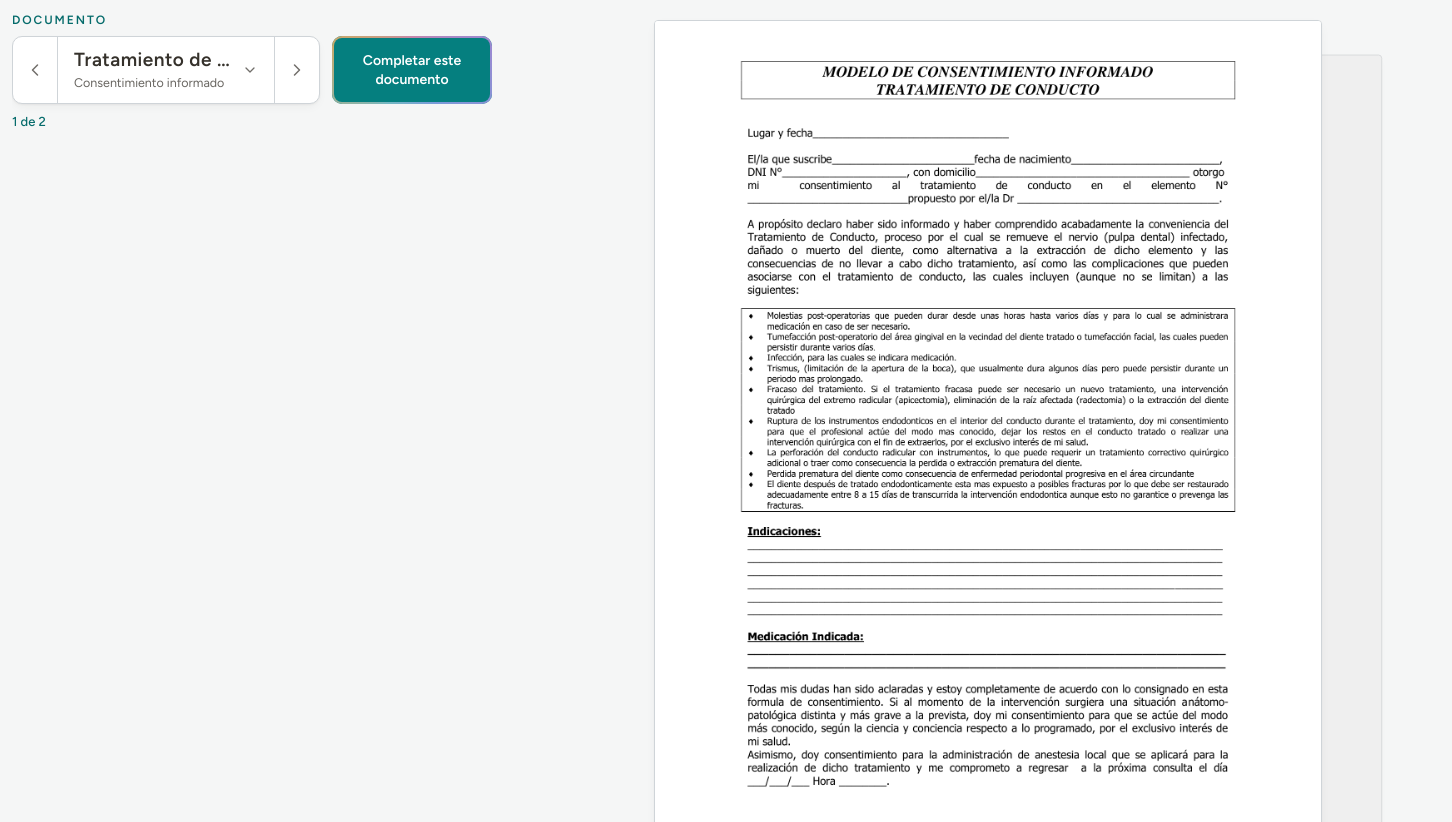
Test: ModuloDocumentos › las flechas recorren los documentos como una rueda, y la vista acompaña
The image size is (1452, 822).
expect the text "1 de 2" is shown: met, box [12, 114, 46, 129]
Click the button named "Documento siguiente": point(297, 70) [275, 37, 319, 103]
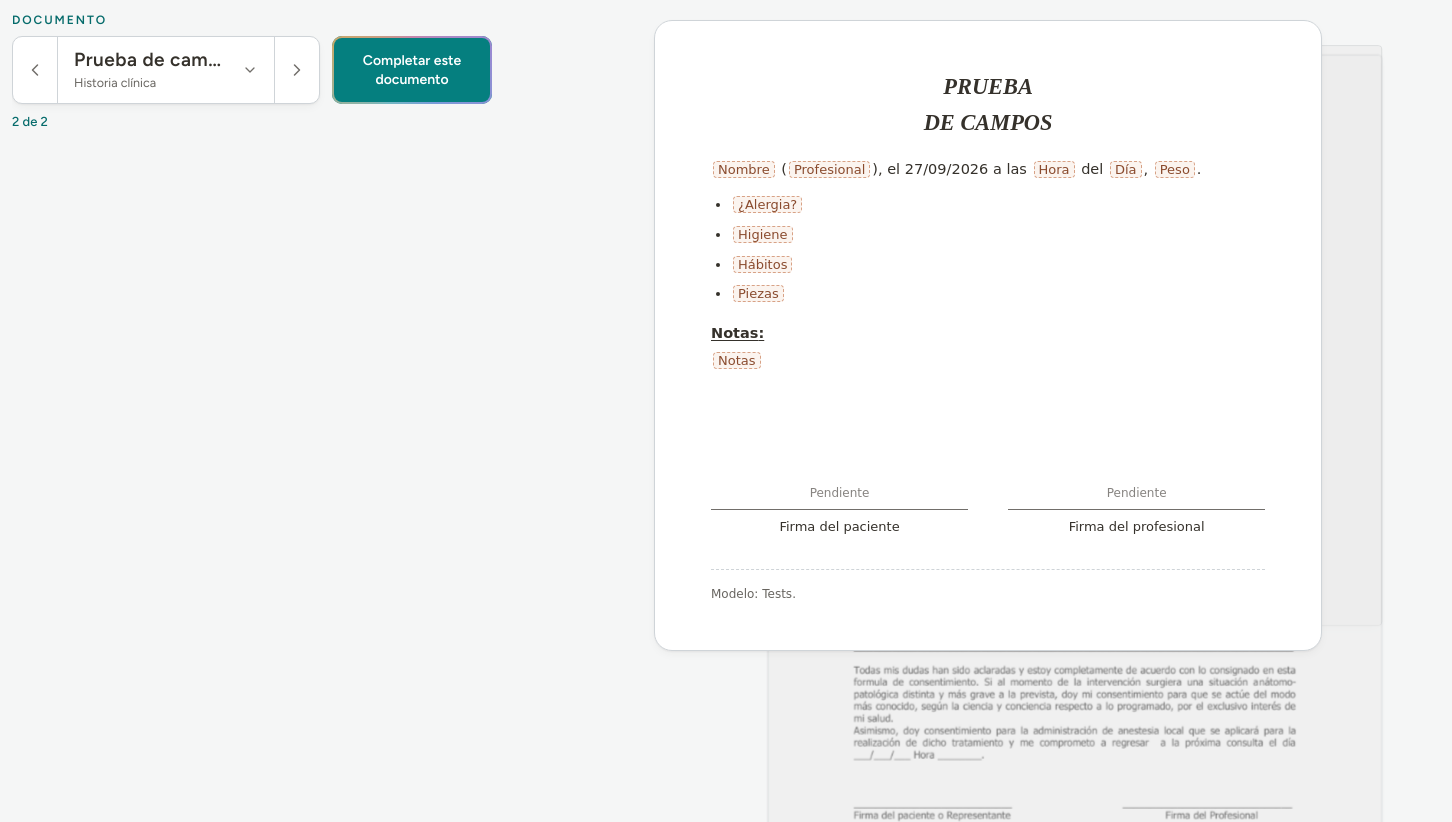
expect the text "2 de 2" is shown: met, box [12, 114, 48, 129]
Click the button named "Documento siguiente": point(297, 70) [275, 37, 319, 103]
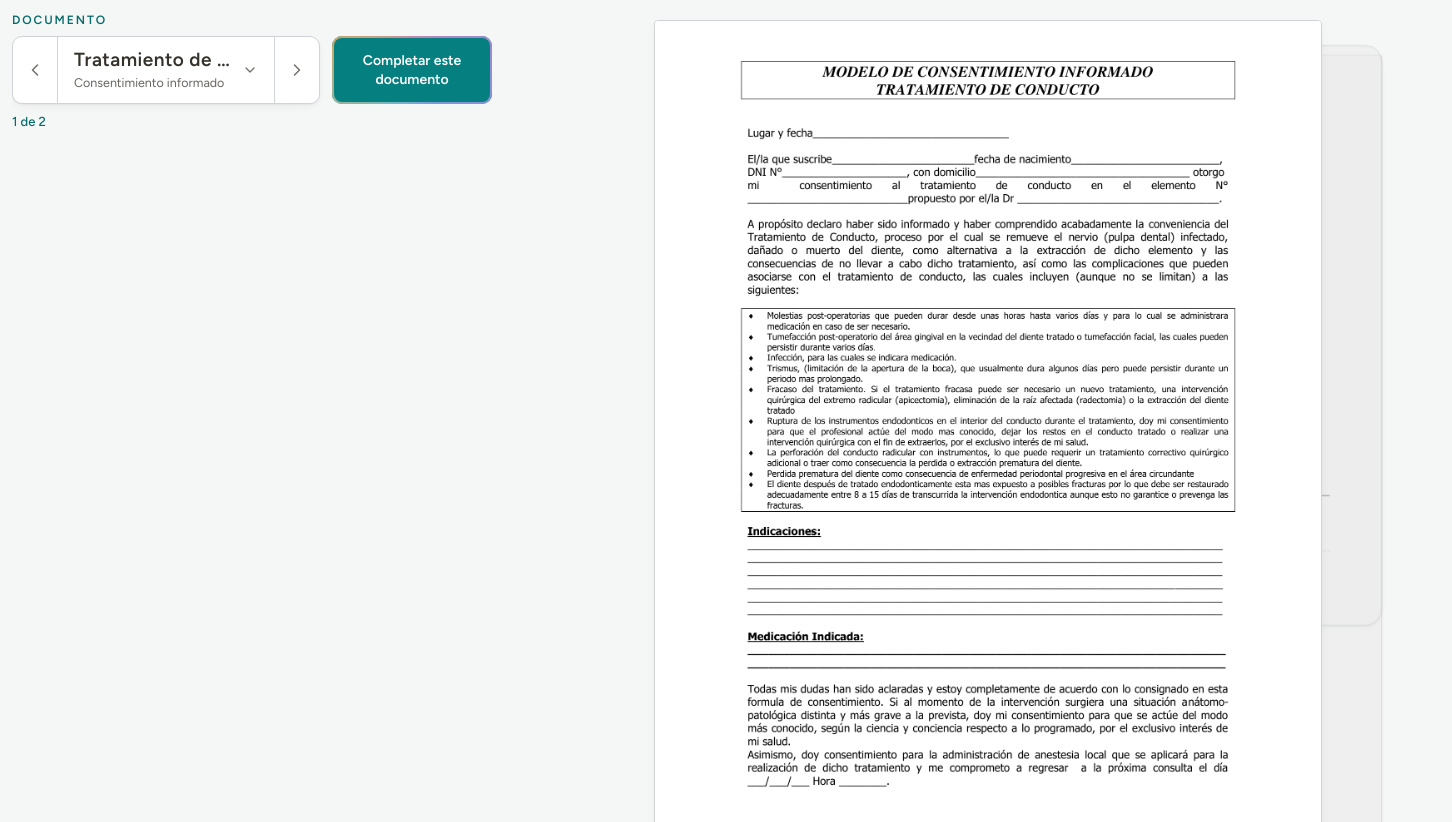
expect the text "1 de 2" is shown: met, box [12, 114, 46, 129]
Click the button named "Documento anterior": point(35, 70) [13, 37, 57, 103]
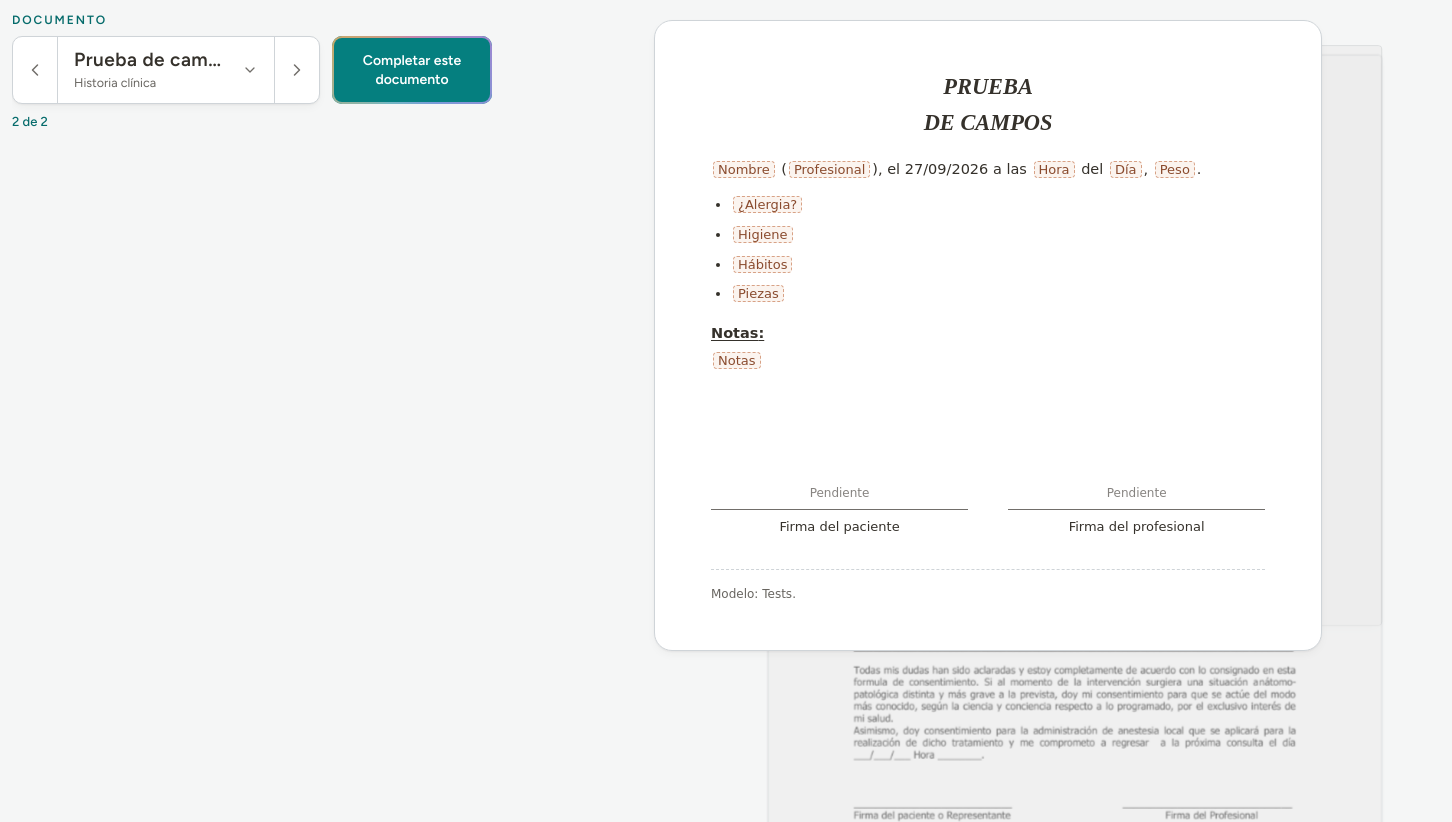
expect the text "2 de 2" is shown: met, box [12, 114, 48, 129]
